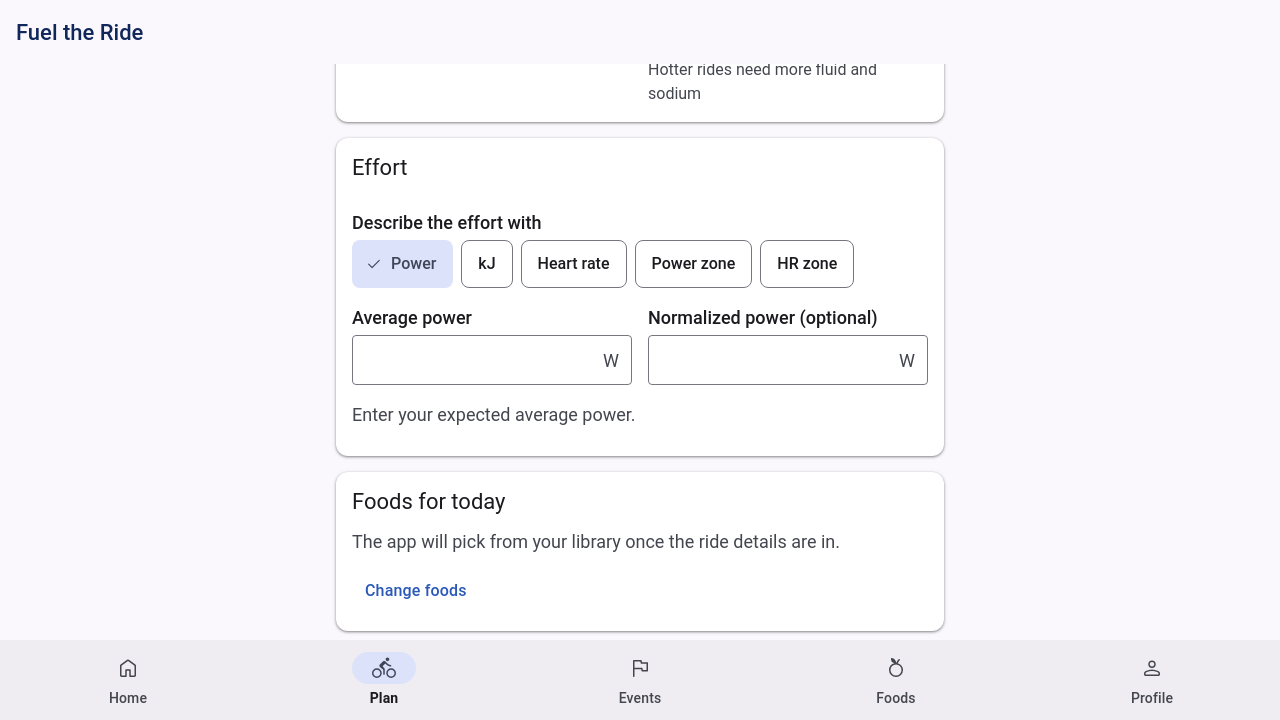
plan a ride: live preview › race day reads the higher carb column (spec T7)
This screenshot has width=1280, height=720.
(page scrolled)
Type "175" into the field labelled "Average power" at x=478, y=360, box x1=353 y1=336 x2=603 y2=384
(page scrolled)
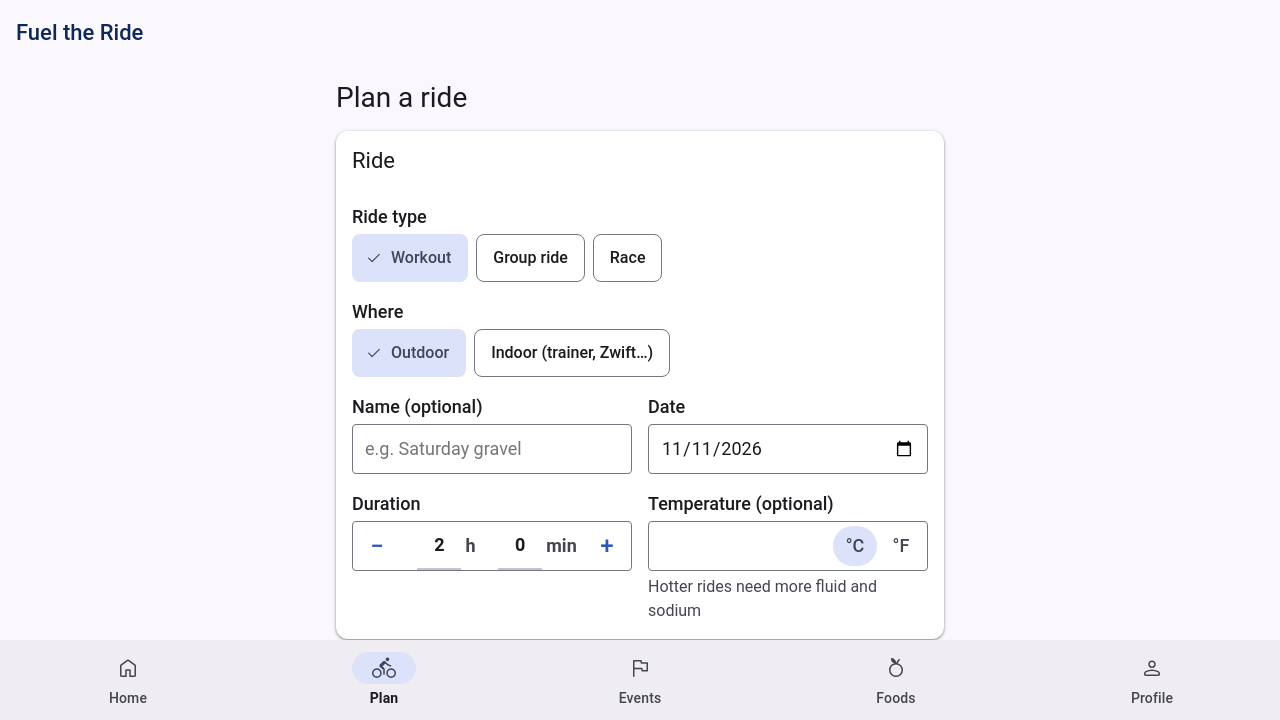
Click the radio button labelled "Race" at x=628, y=258, box x1=593 y1=234 x2=662 y2=282
(page scrolled)
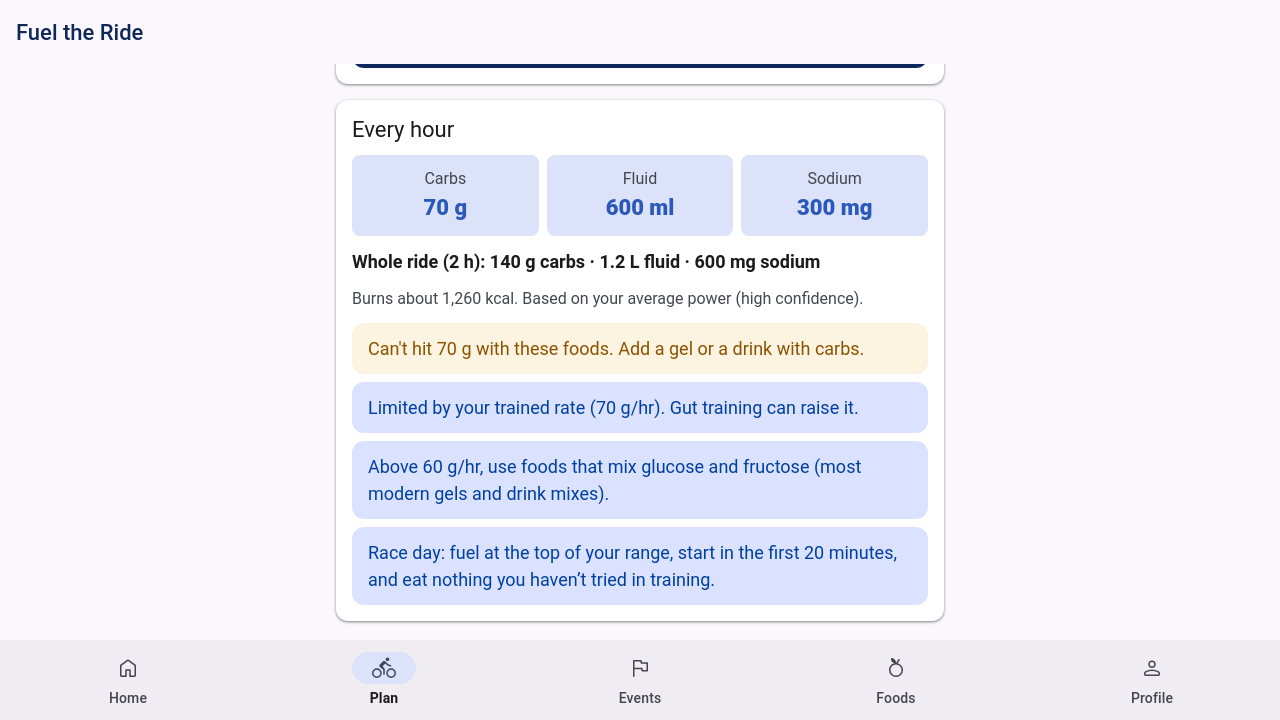
Expected: the text "70 g" is shown, x1=424 y1=195 x2=467 y2=220
Expected: the element "Every hour" shows "Race day", x1=368 y1=542 x2=897 y2=590
